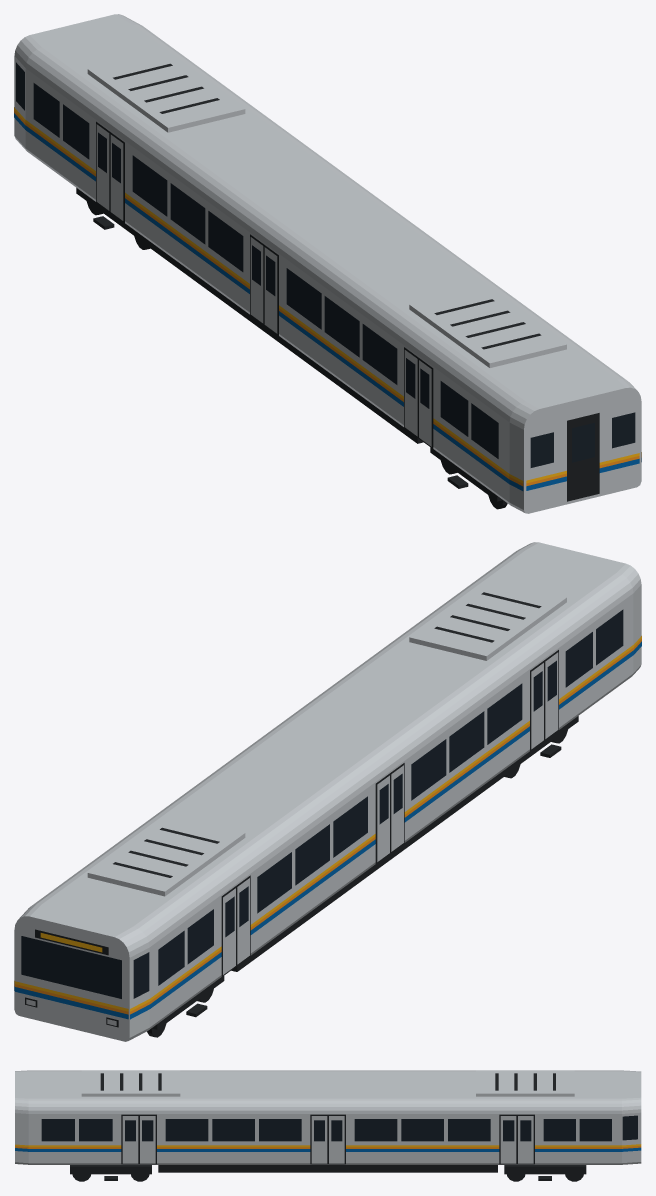
The model's file is marta-railcar.glb.
3 views of the same model, one above another, from view 1: azimuth 30°, elevation 25°; view 2: azimuth 150°, elevation 25°; view 3: azimuth 270°, elevation 25° (orthographic). The views are drawn at different scales.
Visible parts, largest first — view 1: MARTA_Railcar; view 2: MARTA_Railcar; view 3: MARTA_Railcar.
Part boxes in pixels (box(x1,y1,x2,y2)): MARTA_Railcar: box(14, 14, 641, 513); MARTA_Railcar: box(14, 542, 641, 1041); MARTA_Railcar: box(15, 1070, 641, 1181).
Bounding box in the file's own units: 3.3 × 3.61 × 22.92.
